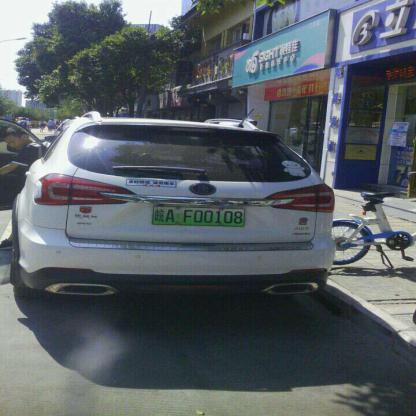lp: (153, 206, 243, 225)
